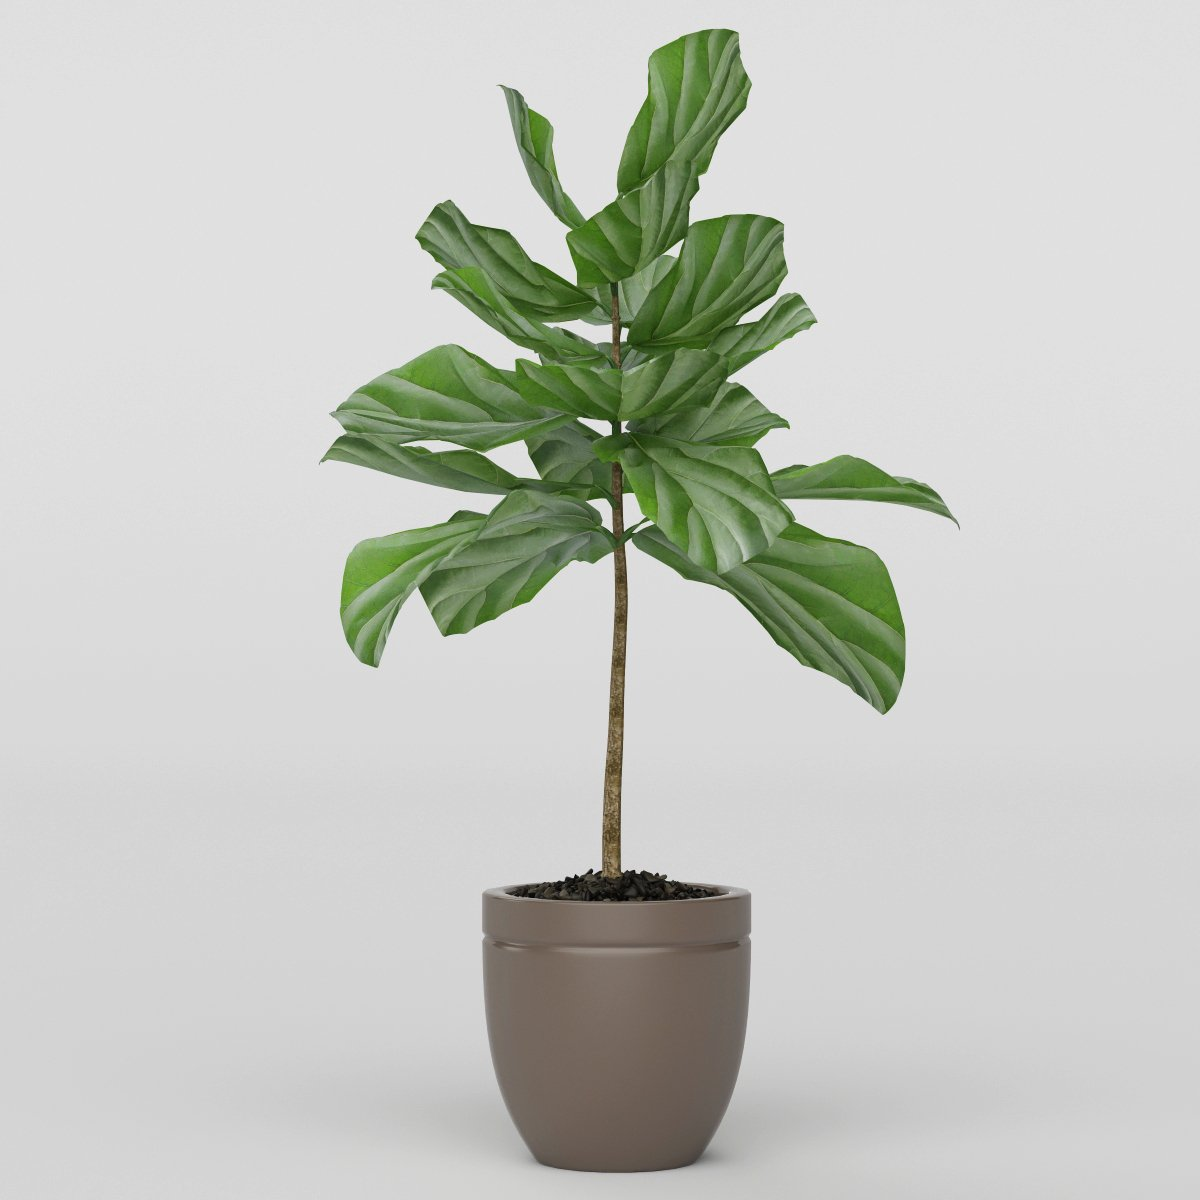tanaman: (341, 25, 896, 1153)
